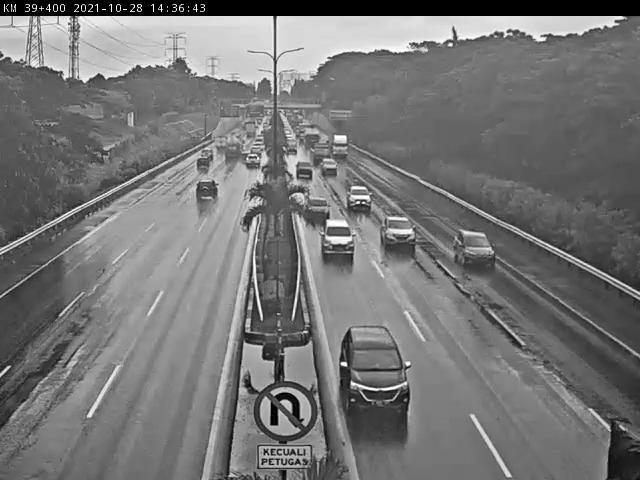big truck: (519, 346, 640, 474), (328, 136, 345, 153), (226, 139, 240, 159)
car: (353, 340, 401, 404), (380, 212, 411, 243), (188, 184, 211, 212), (460, 236, 485, 261), (342, 179, 364, 201), (328, 226, 343, 254), (303, 185, 320, 204), (238, 160, 257, 174), (297, 158, 311, 175), (190, 165, 204, 177), (197, 152, 211, 163), (314, 155, 326, 166), (250, 152, 262, 160)
